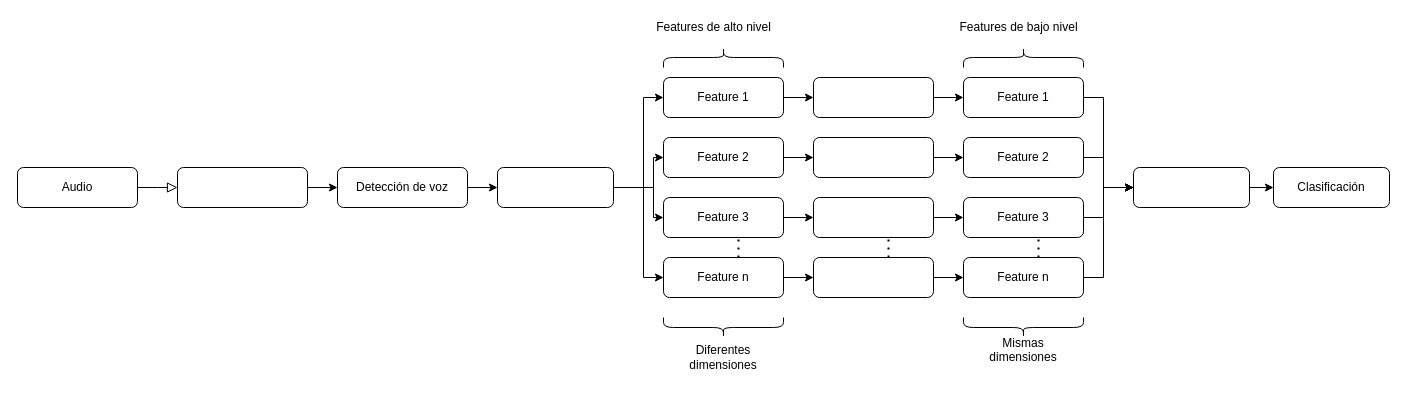
The diagram is 1407 pixels wide and 396 high, and some of its shapes have lost their labels. The shapes that lost their labels are listed below. From the top down, each one's centre as x and y in pixels, then its label:
At (x=873, y=97): "GMM 1".
At (x=873, y=157): "GMM 2".
At (x=242, y=187): "Separación en frames".
At (x=555, y=187): "Feature extraction".
At (x=1191, y=187): "Deep Neural Network".
At (x=873, y=217): "GMM 3".
At (x=873, y=277): "GMM n".
